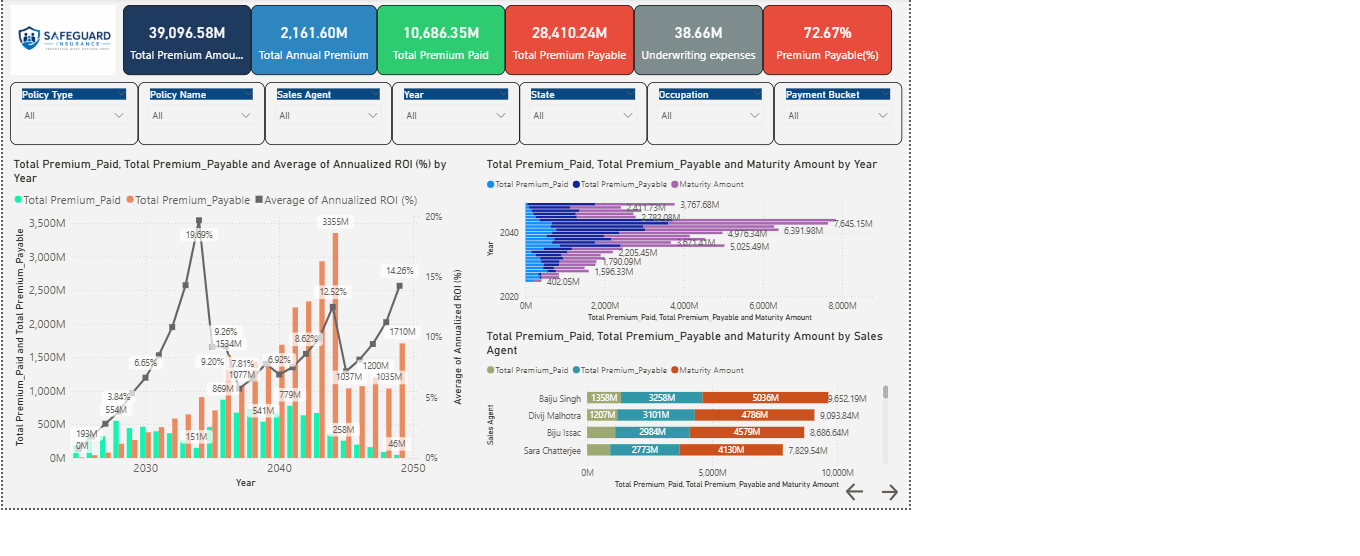

The page's visual inventory and layout, read from the dashboard file:
{"tool":"powerbi","page":{"name":"Premium Analysis (5-20 Years) ","canvas":[1280,720],"ordinal":4},"visuals":[{"type":"image","box":[0,10,170,98.6],"z":0},{"type":"slicer","fields":{"Values":["DM Policy_Type.Policy Type"]},"box":[9.9,118.6,180.7,88.9],"z":1000},{"type":"slicer","fields":{"Values":["DM Policy_Protection_Plan.Policy Name"]},"box":[190.6,118.6,179.3,88.9],"z":2000},{"type":"slicer","fields":{"Values":["DM Insurance_Agent_Table.Sales Agent"]},"box":[369.9,118.6,179.3,88.9],"z":3000},{"type":"slicer","fields":{"Values":["FCT Insurance_Policy_Table.Date of Purchase.Variation.Date Hierarchy.Year"]},"box":[549.2,118.6,180.7,88.9],"z":4000},{"type":"slicer","fields":{"Values":["DM Customer_Detail_Table.State"]},"box":[728.5,118.6,180.7,88.9],"z":5000},{"type":"slicer","fields":{"Values":["DM Customer_Detail_Table.Occupation"]},"box":[909.2,118.6,179.3,88.9],"z":6000},{"type":"card","fields":{"Values":["FCT Insurance_Policy_Table.Premium Payable(%)"]},"box":[1072.9,9.9,182.1,98.8],"z":7000},{"type":"lineClusteredColumnComboChart","fields":{"Y":["FCT Insurance_Policy_Table.Total Premium_Paid","FCT Insurance_Policy_Table.Total Premium_Payable"],"Y2":["Avg(FCT Insurance_Policy_Table.Annualized ROI (%))"],"Category":["FCT Insurance_Policy_Table.Tenure Date.Variation.Date Hierarchy.Year"]},"box":[9.9,224.5,643.8,472.9],"z":8000},{"type":"slicer","fields":{"Values":["FCT Insurance_Policy_Table.Payment Bucket"]},"box":[1088.5,118.6,180.7,88.9],"z":9000},{"type":"barChart","fields":{"Category":["FCT Insurance_Policy_Table.Tenure Date.Variation.Date Hierarchy.Year"],"Y":["FCT Insurance_Policy_Table.Total Premium_Paid","FCT Insurance_Policy_Table.Total Premium_Payable","Sum(FCT Insurance_Policy_Table.Maturity Amount)"]},"box":[677.6,224.5,577.4,237.2],"z":10000},{"type":"barChart","fields":{"Y":["FCT Insurance_Policy_Table.Total Premium_Paid","FCT Insurance_Policy_Table.Total Premium_Payable","Sum(FCT Insurance_Policy_Table.Maturity Amount)"],"Category":["DM Insurance_Agent_Table.Sales Agent"]},"box":[677.6,467.3,577.4,230.1],"z":11000},{"type":"card","fields":{"Values":["Sum(FCT Insurance_Policy_Table.Total Premium Amount)"]},"box":[169.4,9.9,180.7,98.8],"z":12000},{"type":"card","fields":{"Values":["Sum(FCT Insurance_Policy_Table.Total Annual Premium)"]},"box":[350.1,9.9,177.9,98.8],"z":13000},{"type":"card","fields":{"Values":["Sum(FCT Insurance_Policy_Table.Total Premium Paid)"]},"box":[528,9.9,180.7,98.8],"z":14000},{"type":"card","fields":{"Values":["Sum(FCT Insurance_Policy_Table.Total Premium Payable)"]},"box":[708.7,9.9,182.1,98.8],"z":15000},{"type":"card","fields":{"Values":["Sum(FCT Insurance_Policy_Table.Underwriting expenses)"]},"box":[890.8,9.9,182.1,98.8],"z":16000},{"type":"actionButton","box":[1235.3,681.9,39.5,32.5],"z":17000},{"type":"actionButton","box":[1185.9,680.5,55.1,33.9],"z":18000}]}

Visuals, with their boxes on the page's 1280x720 design canvas (x1, y1, x2, y2). These are canvas units, not pixel positions in the 1360x556 screenshot, which may show the page scaled, cropped or inside an application window:
image: {"left": 0, "top": 10, "right": 170, "bottom": 109}
slicer - DM Policy_Type.Policy Type: {"left": 10, "top": 119, "right": 191, "bottom": 208}
slicer - DM Policy_Protection_Plan.Policy Name: {"left": 191, "top": 119, "right": 370, "bottom": 208}
slicer - DM Insurance_Agent_Table.Sales Agent: {"left": 370, "top": 119, "right": 549, "bottom": 208}
slicer - FCT Insurance_Policy_Table.Date of Purchase.Variation.Date Hierarchy.Year: {"left": 549, "top": 119, "right": 730, "bottom": 208}
slicer - DM Customer_Detail_Table.State: {"left": 728, "top": 119, "right": 909, "bottom": 208}
slicer - DM Customer_Detail_Table.Occupation: {"left": 909, "top": 119, "right": 1088, "bottom": 208}
card - FCT Insurance_Policy_Table.Premium Payable(%): {"left": 1073, "top": 10, "right": 1255, "bottom": 109}
lineClusteredColumnComboChart - FCT Insurance_Policy_Table.Total Premium_Paid x FCT Insurance_Policy_Table.Total Premium_Payable: {"left": 10, "top": 224, "right": 654, "bottom": 697}
slicer - FCT Insurance_Policy_Table.Payment Bucket: {"left": 1088, "top": 119, "right": 1269, "bottom": 208}
barChart - FCT Insurance_Policy_Table.Tenure Date.Variation.Date Hierarchy.Year x FCT Insurance_Policy_Table.Total Premium_Paid: {"left": 678, "top": 224, "right": 1255, "bottom": 462}
barChart - FCT Insurance_Policy_Table.Total Premium_Paid x FCT Insurance_Policy_Table.Total Premium_Payable: {"left": 678, "top": 467, "right": 1255, "bottom": 697}
card - Sum(FCT Insurance_Policy_Table.Total Premium Amount): {"left": 169, "top": 10, "right": 350, "bottom": 109}
card - Sum(FCT Insurance_Policy_Table.Total Annual Premium): {"left": 350, "top": 10, "right": 528, "bottom": 109}
card - Sum(FCT Insurance_Policy_Table.Total Premium Paid): {"left": 528, "top": 10, "right": 709, "bottom": 109}
card - Sum(FCT Insurance_Policy_Table.Total Premium Payable): {"left": 709, "top": 10, "right": 891, "bottom": 109}
card - Sum(FCT Insurance_Policy_Table.Underwriting expenses): {"left": 891, "top": 10, "right": 1073, "bottom": 109}
actionButton: {"left": 1235, "top": 682, "right": 1275, "bottom": 714}
actionButton: {"left": 1186, "top": 680, "right": 1241, "bottom": 714}
